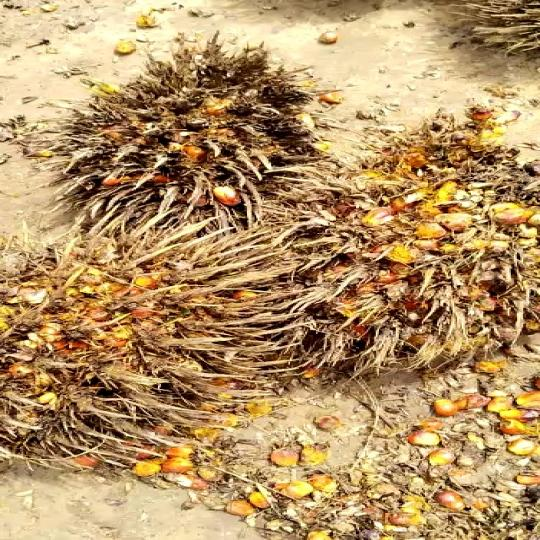terlalu masak: (270, 122, 540, 381), (46, 61, 316, 231)
